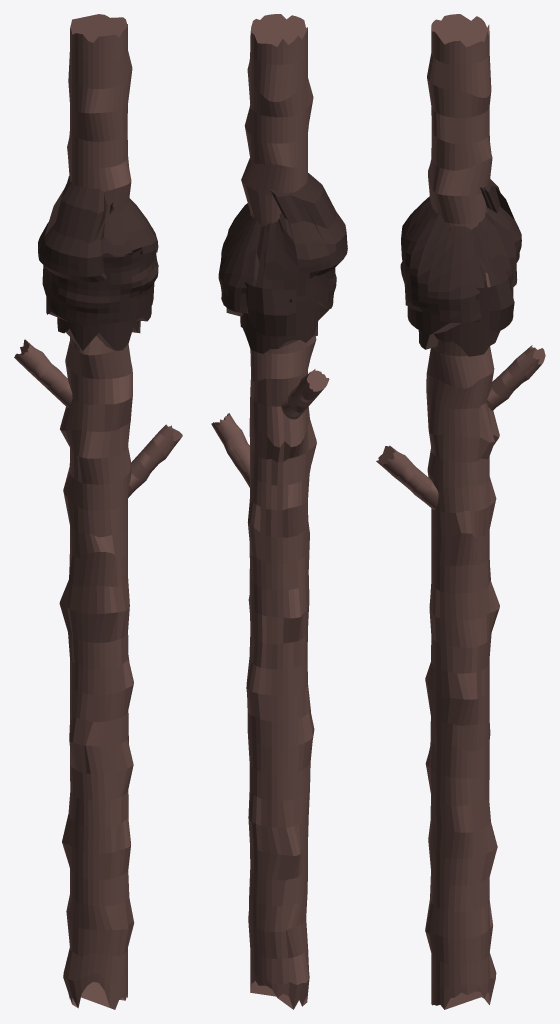
Rendered from Torch3.fbx.
3 views of the same model, side by side, from view 1: azimuth 90°, elevation 25°; view 2: azimuth 210°, elevation 25°; view 3: azimuth 270°, elevation 25° (orthographic).
Parts seen in each view (by area): view 1: Torch3; view 2: Torch3; view 3: Torch3.
Boxes of the visible parts, x1=… form: Torch3: x1=14, y1=14, x2=182, y2=1009; Torch3: x1=211, y1=14, x2=347, y2=1009; Torch3: x1=376, y1=14, x2=545, y2=1009.
Bounding box in the file's own units: 437 × 3700 × 580.
